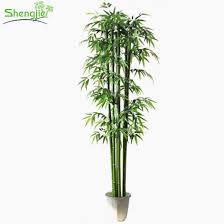bamboo: (70, 3, 160, 193)
